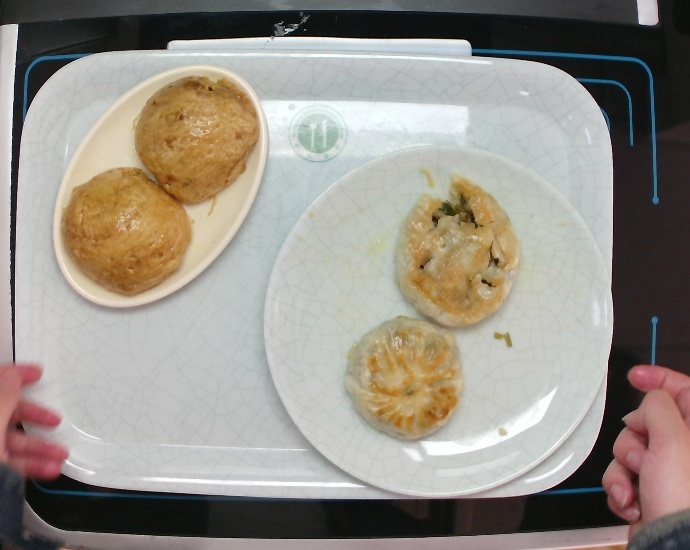JYsf-Da_Yuan_Pan: (261, 142, 615, 501)
JYsf-Tuo_Yuan_Wan: (49, 62, 269, 310)
